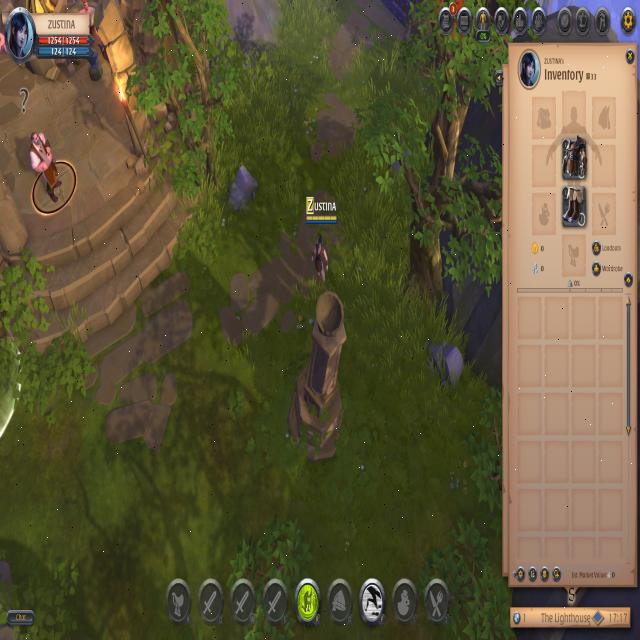stone: (418, 324, 470, 404), (223, 164, 264, 221)
